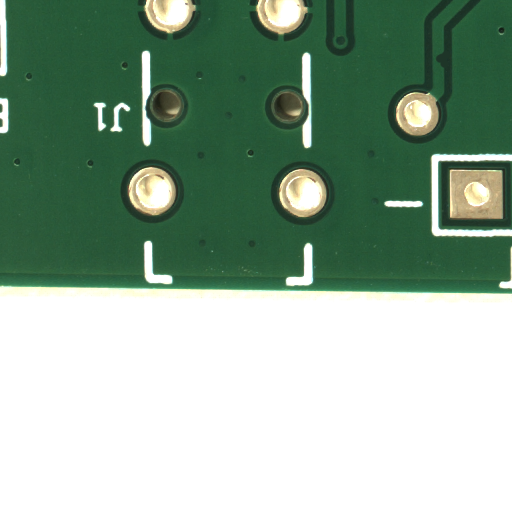Mouse_bite: (440, 60, 449, 75)
